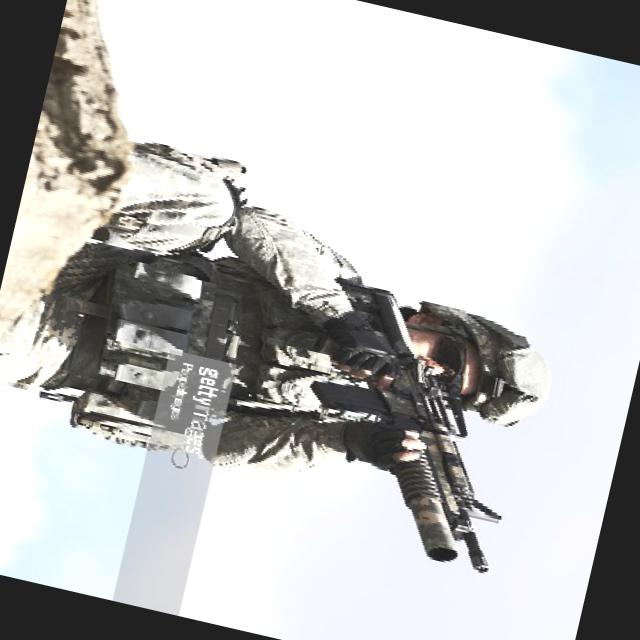long weapon: (232, 259, 556, 592)
